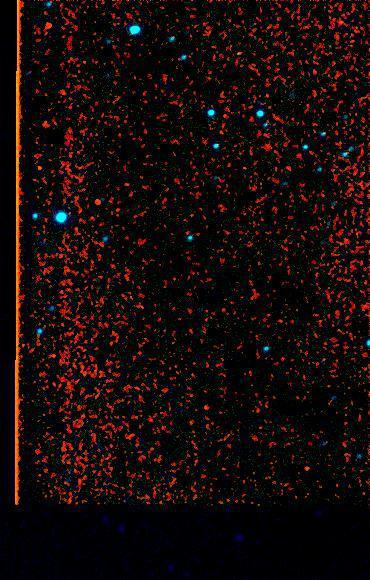star: (291, 452, 321, 482)
